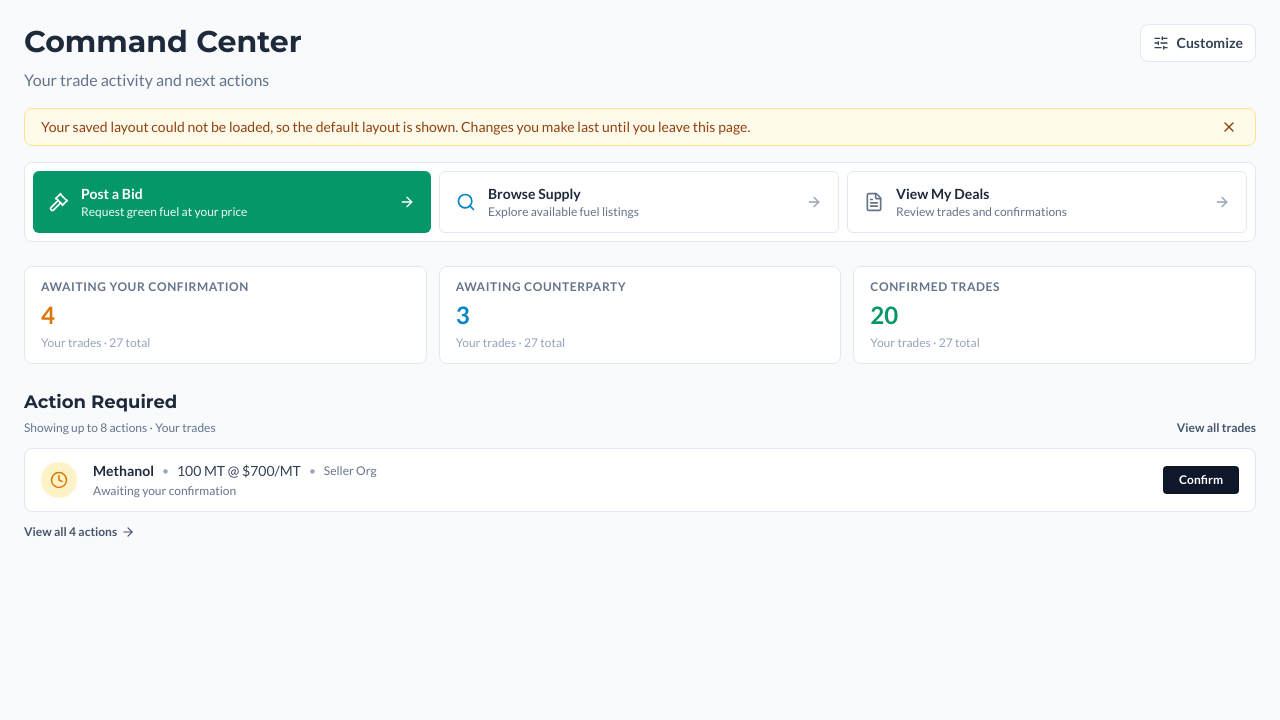
Test: Command Center trade summaries and action queue › shows the KYC reason and the /kyc link when a confirmation is blocked
The width and height of the screenshot is (1280, 720).
Click the button "Confirm": click(1201, 480) [1163, 466, 1239, 494]
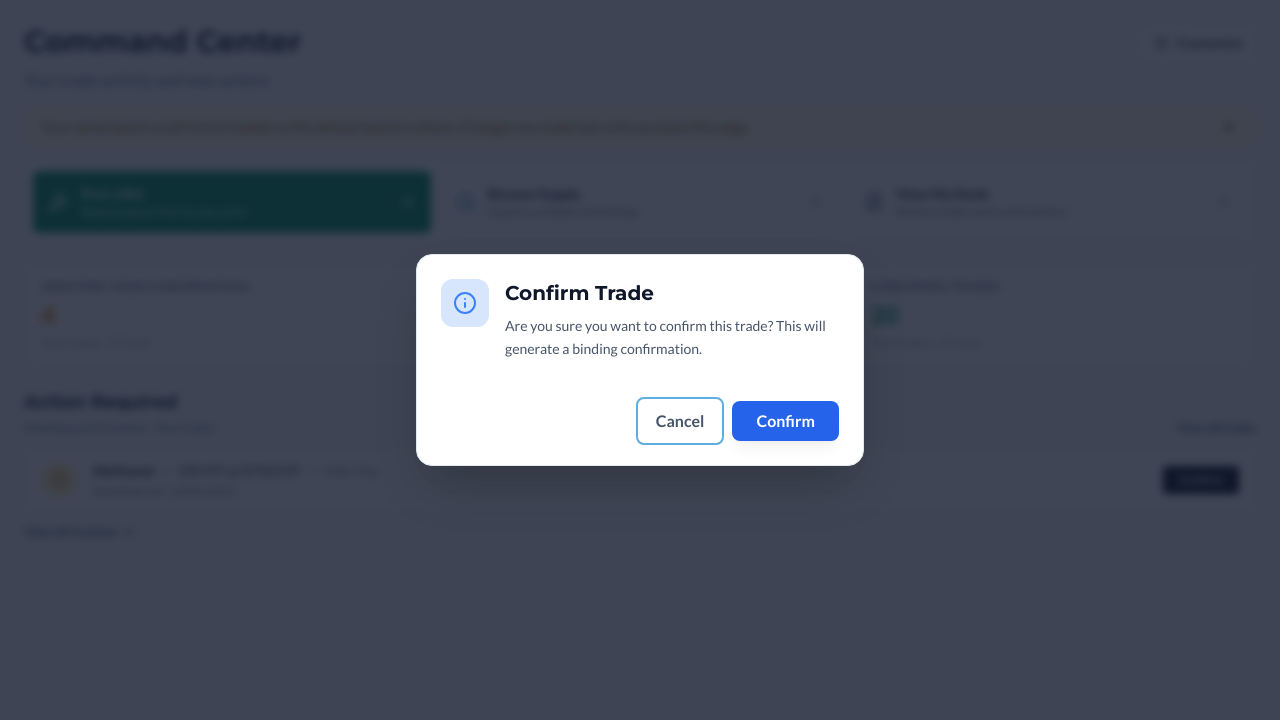
Click the button "Confirm": click(786, 421) [732, 401, 839, 441]
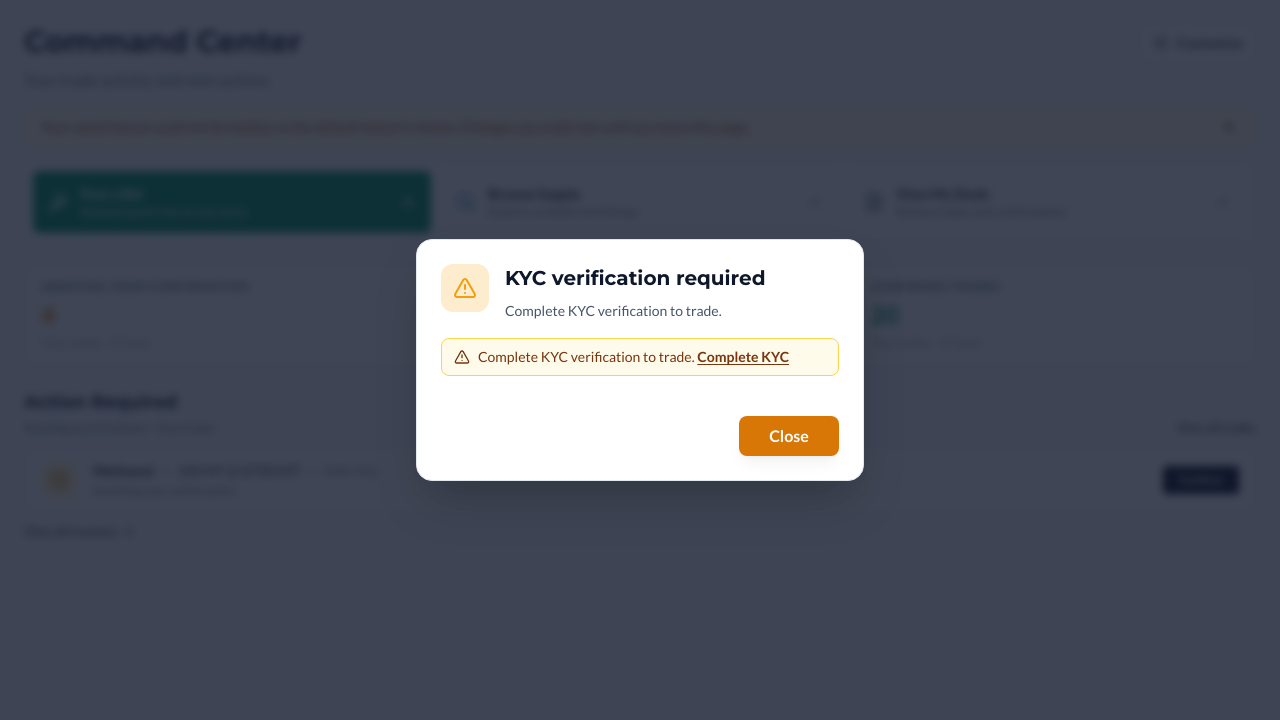
Now the heading "KYC verification required" is shown, box [505, 266, 766, 290]
